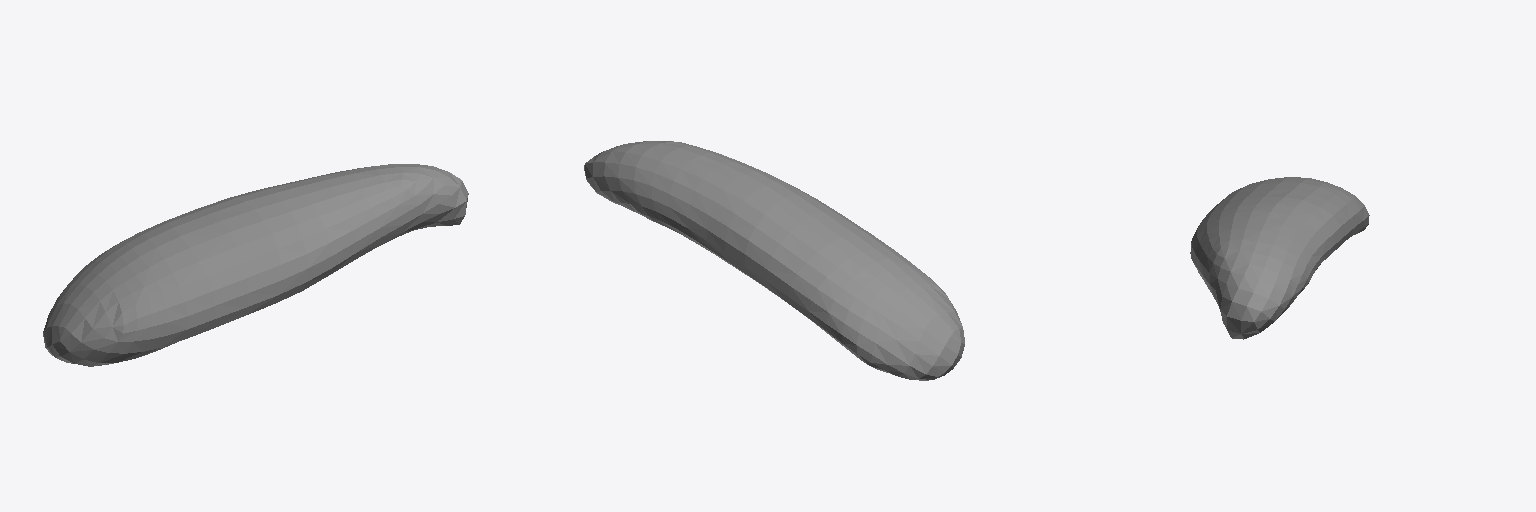
The model's file is alaIzquierda.obj.
3 renders of one model, left to right at view 1: azimuth 30°, elevation 25°; view 2: azimuth 150°, elevation 25°; view 3: azimuth 270°, elevation 25°, orthographic.
Parts seen in each view (by area): view 1: Ala2; view 2: Ala2; view 3: Ala2.
Boxes of the visible parts, <box> form: Ala2: <box>43,164,468,366</box>; Ala2: <box>584,141,964,380</box>; Ala2: <box>1190,177,1369,339</box>.
Bounding box in the file's own units: 0.1025 × 0.0341 × 0.0404.